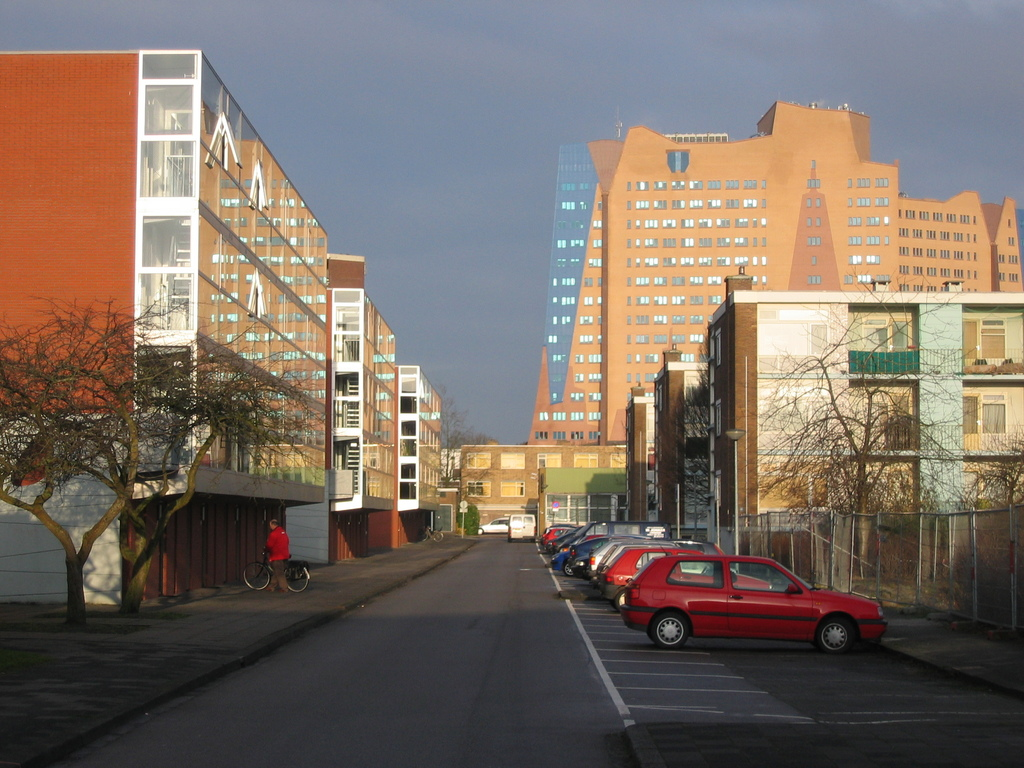Car: (550, 533, 888, 654), (537, 524, 604, 554), (475, 517, 510, 535)
